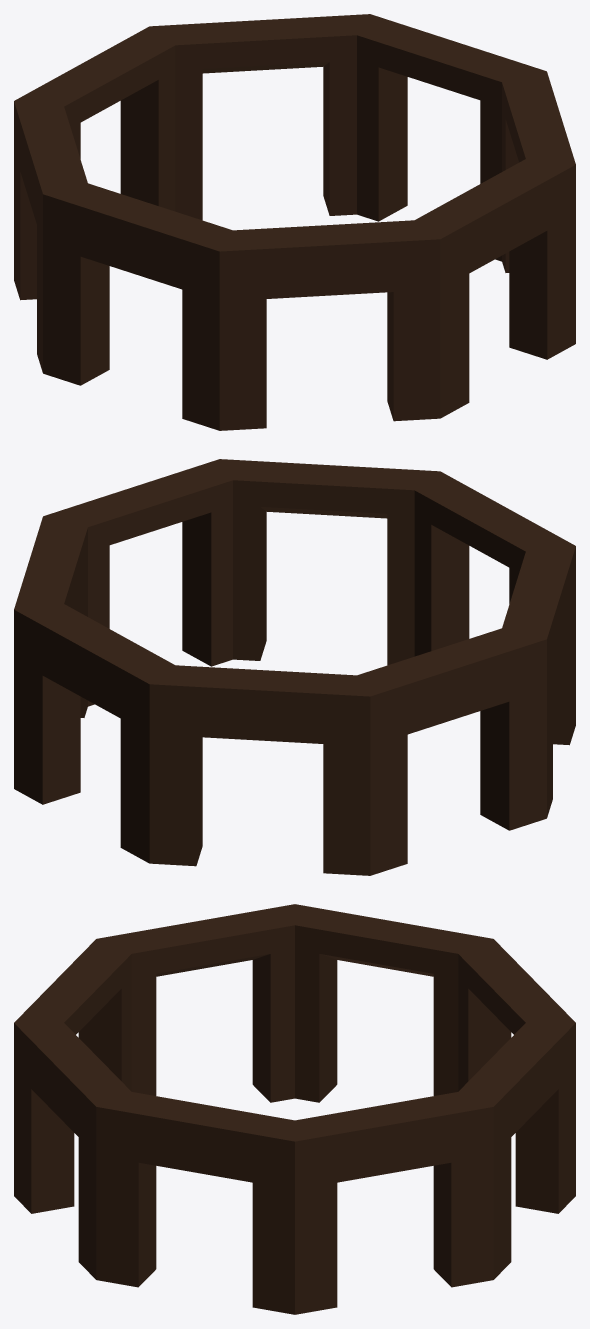
File: Tribal_Plains_Windmill_Grain_Frame_Base_Timber_01.fbx
The picture shows the model from 3 angles, top to bottom: view 1: azimuth 30°, elevation 25°; view 2: azimuth 150°, elevation 25°; view 3: azimuth 270°, elevation 25°; orthographic projection. The views are drawn at different scales.
Parts seen in each view (by area): view 1: Tribal_Plains_Windmill_Grain_Frame_Base_Timber_01; view 2: Tribal_Plains_Windmill_Grain_Frame_Base_Timber_01; view 3: Tribal_Plains_Windmill_Grain_Frame_Base_Timber_01.
Part boxes in pixels (x1,y1,x2,y2): Tribal_Plains_Windmill_Grain_Frame_Base_Timber_01: [14, 14, 575, 430]; Tribal_Plains_Windmill_Grain_Frame_Base_Timber_01: [14, 459, 575, 875]; Tribal_Plains_Windmill_Grain_Frame_Base_Timber_01: [14, 904, 575, 1314].
Size of the model in its own units: 2.49 by 0.8471 by 2.49.
